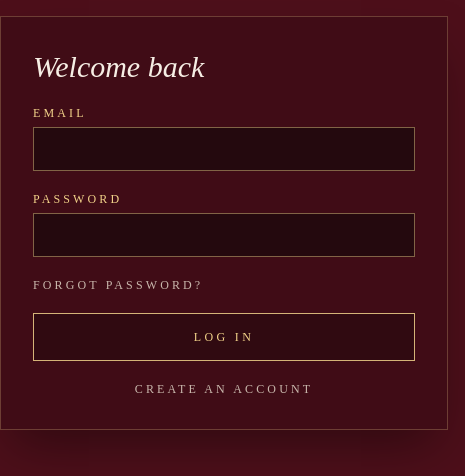
Test case: LoginForm › asks the user to confirm their email when sign up returns no session
Click the button "Create an account" at (224, 389), box x1=33 y1=381 x2=415 y2=397
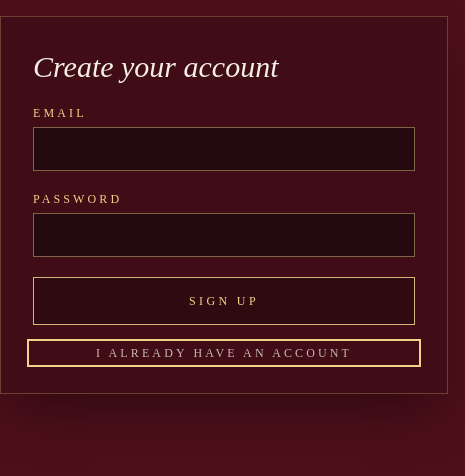
Type "a@b.co" into the field labelled "Email" at (224, 149), box x1=33 y1=127 x2=415 y2=171
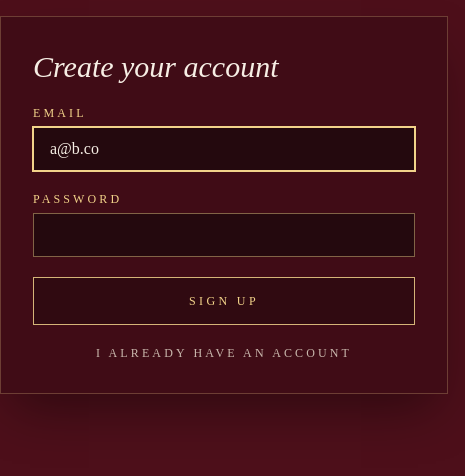
Type "hunter22" into the password field labelled "Password" at (224, 235), box x1=33 y1=213 x2=415 y2=257
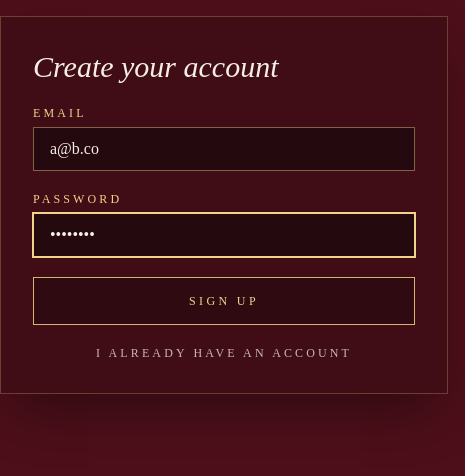
Click the button "Sign up" at (224, 301), box x1=33 y1=277 x2=415 y2=325
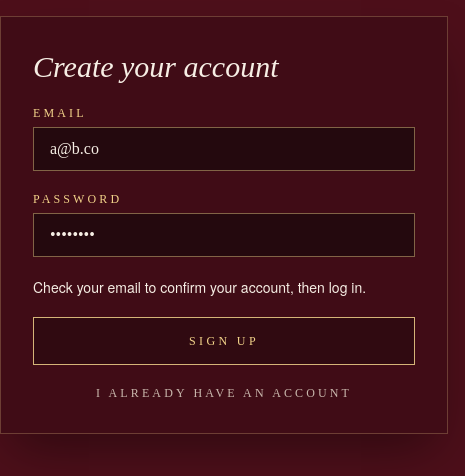
Expected: the message shows "Check your email", x1=33 y1=277 x2=366 y2=297
